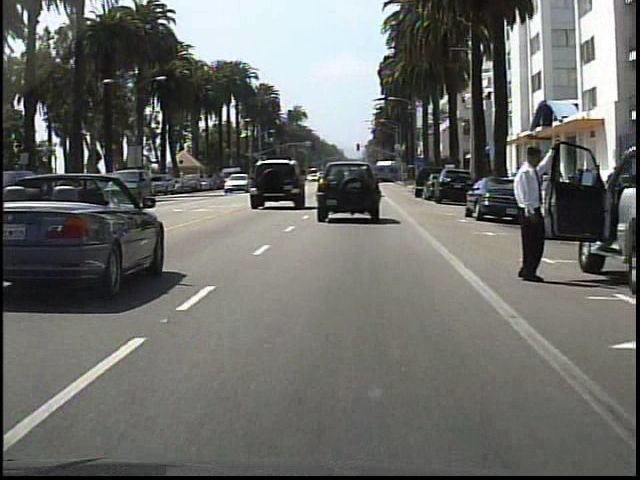person: (500, 134, 562, 290)
